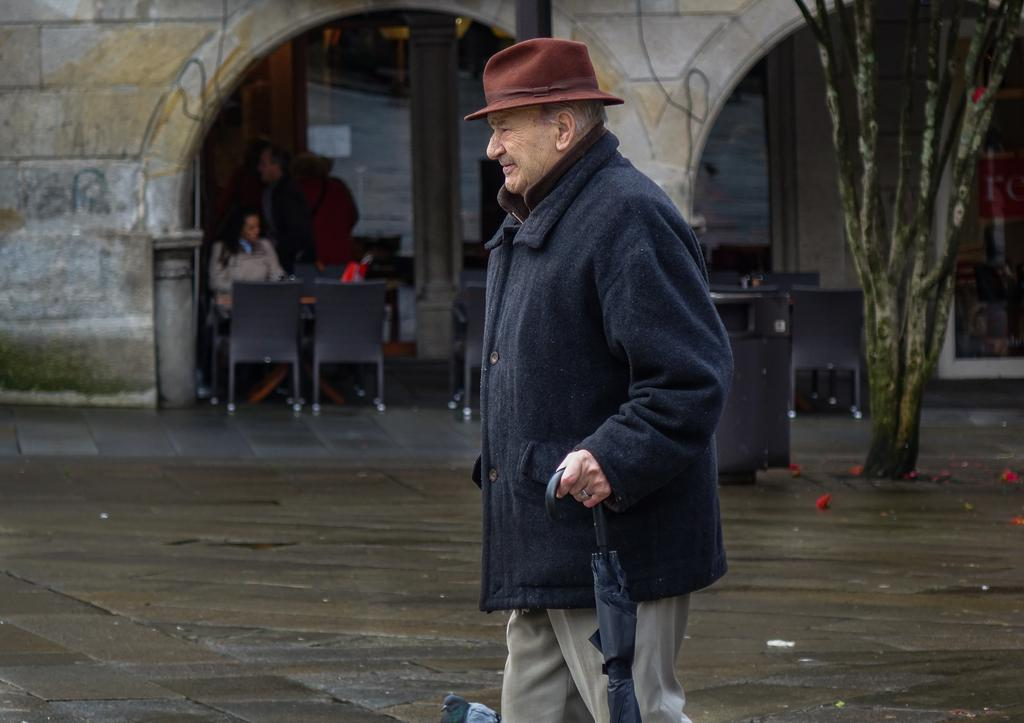Hat: (468, 36, 622, 121)
